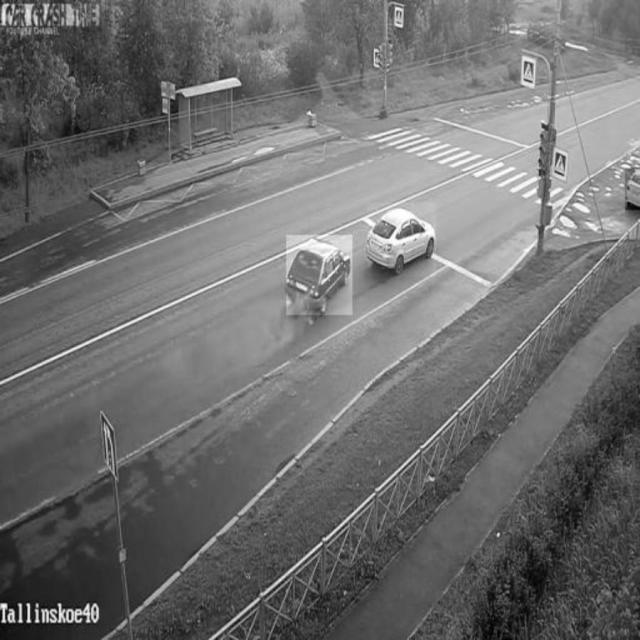vehicle: (287, 235, 353, 315), (368, 203, 436, 276), (625, 168, 640, 210)
